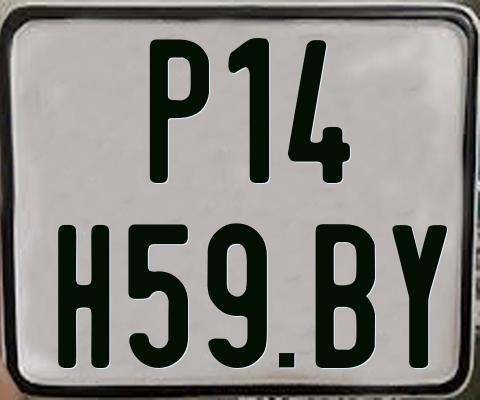1: (227, 36, 274, 186)
4: (285, 39, 351, 186)
5: (127, 221, 192, 369)
9: (204, 221, 268, 366)
B: (312, 221, 378, 367)
H: (55, 224, 106, 372)
P: (149, 38, 210, 183)
Y: (391, 224, 449, 370)
